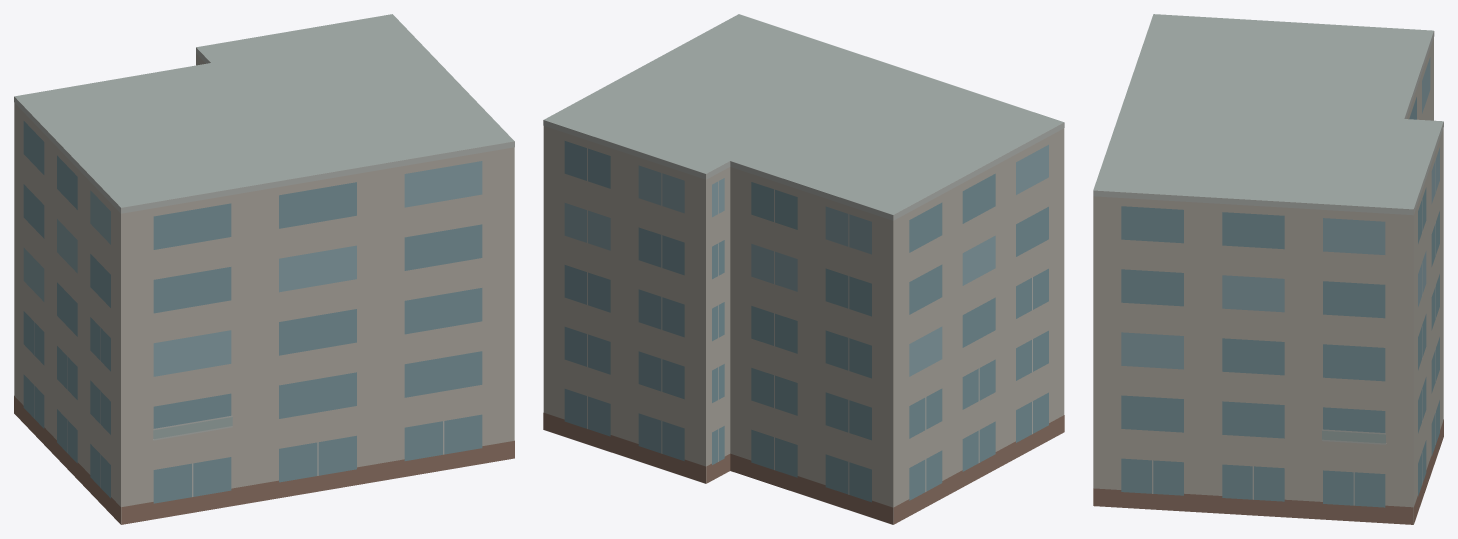
File: survey-upis-32680171.glb
3 renders of one model, left to right at view 1: azimuth 30°, elevation 25°; view 2: azimuth 150°, elevation 25°; view 3: azimuth 270°, elevation 25°, orthographic. The views are drawn at different scales.
Parts seen in each view (by area): view 1: survey-upis-32680171.tmp; view 2: survey-upis-32680171.tmp; view 3: survey-upis-32680171.tmp.
Boxes of the visible parts, bbox=[...] form: survey-upis-32680171.tmp: bbox=[14, 14, 514, 524]; survey-upis-32680171.tmp: bbox=[543, 14, 1064, 524]; survey-upis-32680171.tmp: bbox=[1093, 14, 1443, 524].
Bounding box in the file's own units: 17.54 × 13.2 × 13.31.
